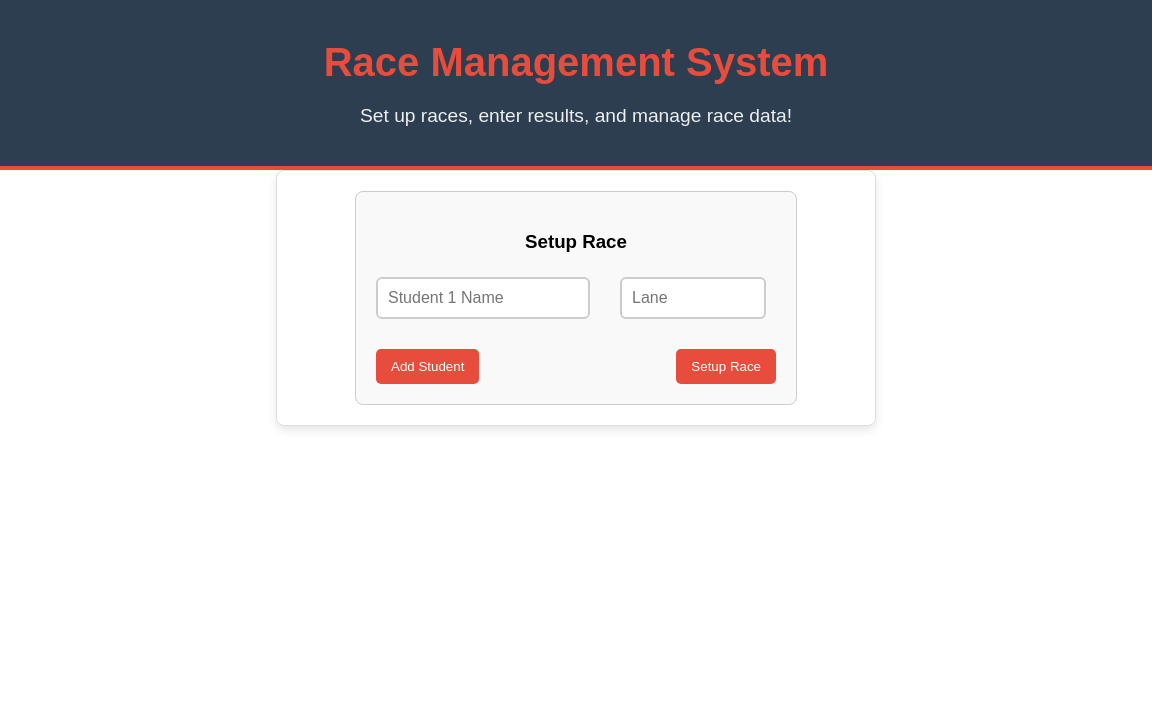
Test case: Race Setup Edge Cases › should prevent duplicate lane numbers
The width and height of the screenshot is (1152, 720).
Click the button with class "add-btn": (428, 367) top-left (376, 349), bottom-right (479, 384)
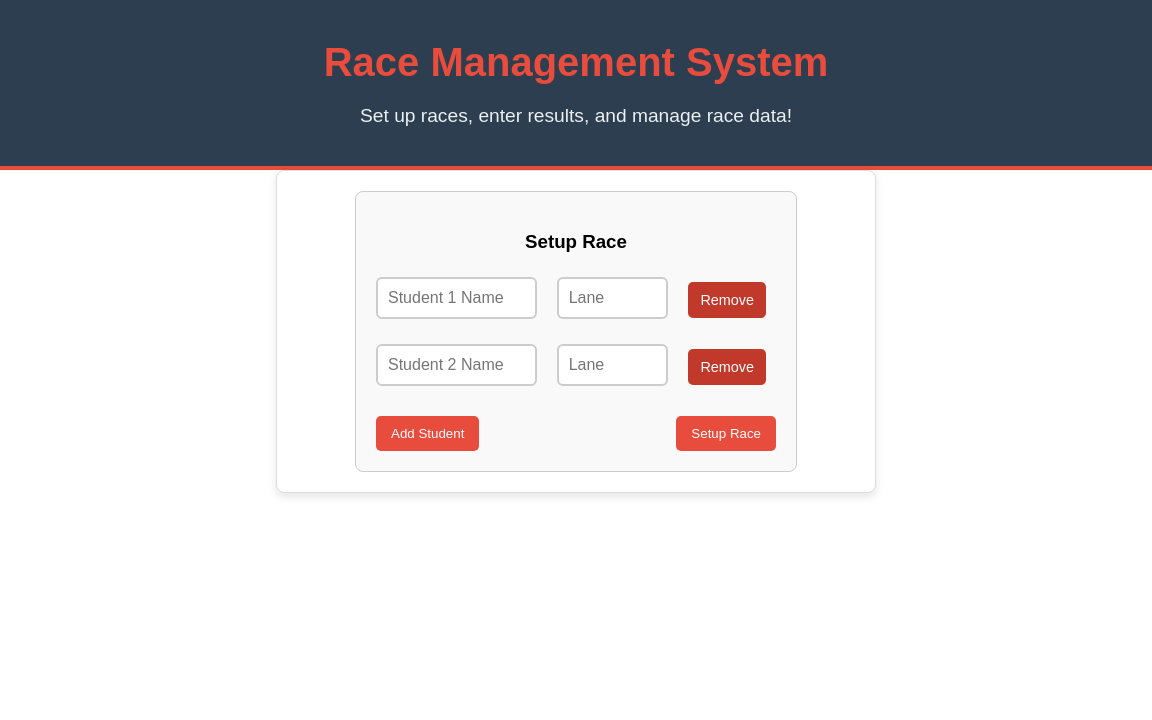
# Fill in names but use the same lane number for both students
In the field with placeholder "Student 1 Name": (457, 298) top-left (376, 277), bottom-right (537, 319), type "John"
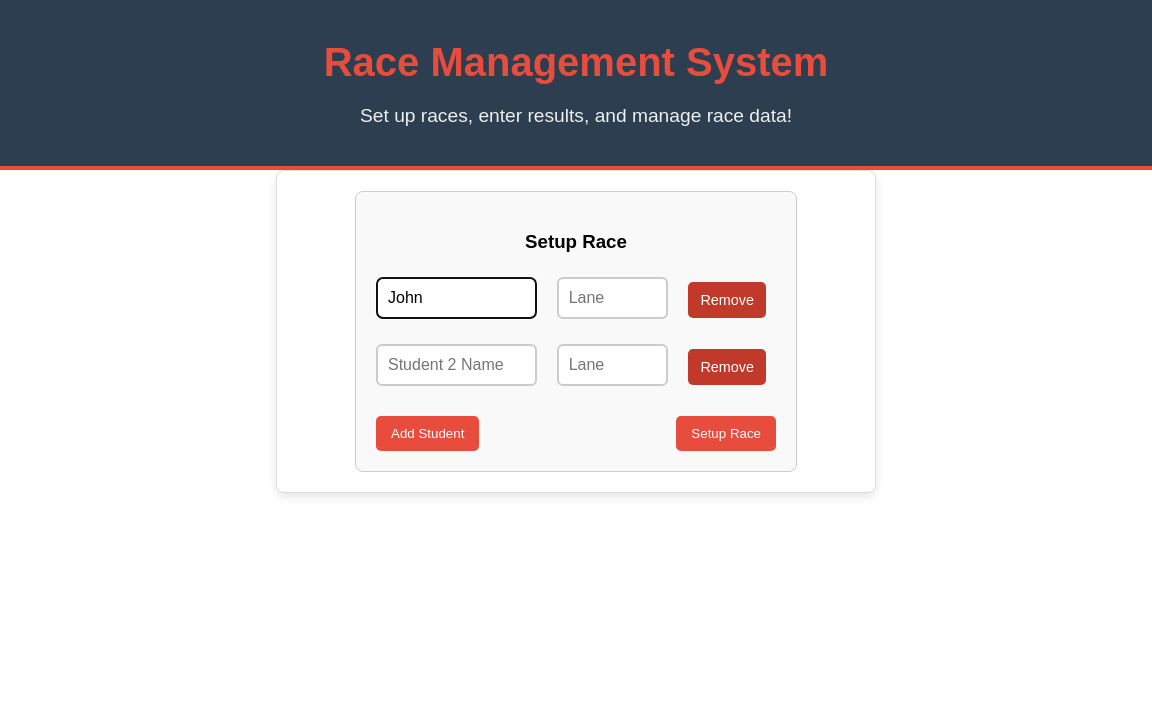
In the 1st number field with placeholder "Lane": (613, 298) top-left (557, 277), bottom-right (669, 319), type "1"
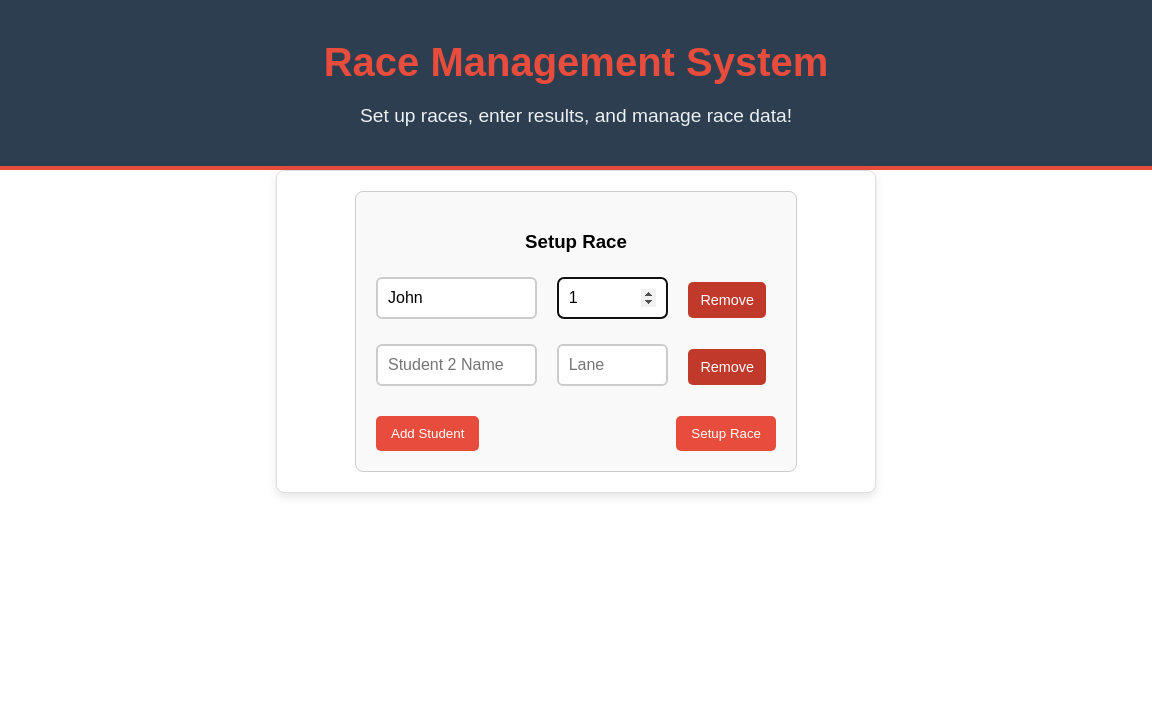
In the field with placeholder "Student 2 Name": (457, 365) top-left (376, 344), bottom-right (537, 386), type "Jane"
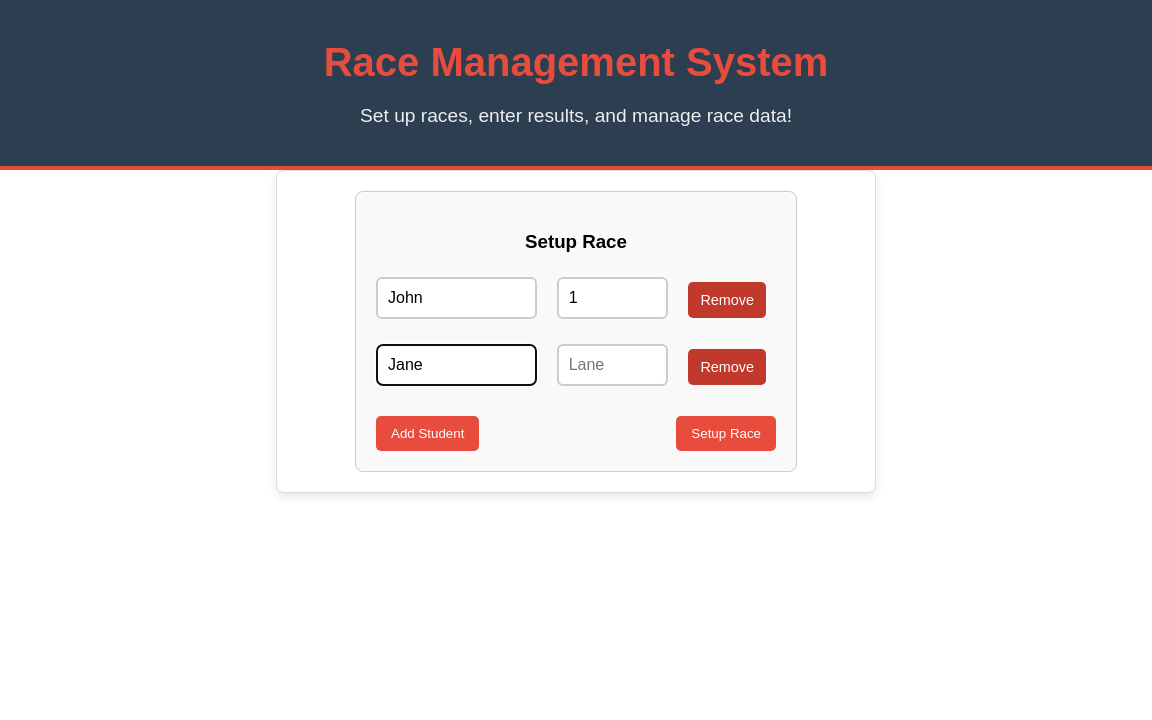
In the number field with placeholder "Lane": (613, 365) top-left (557, 344), bottom-right (669, 386), type "1"
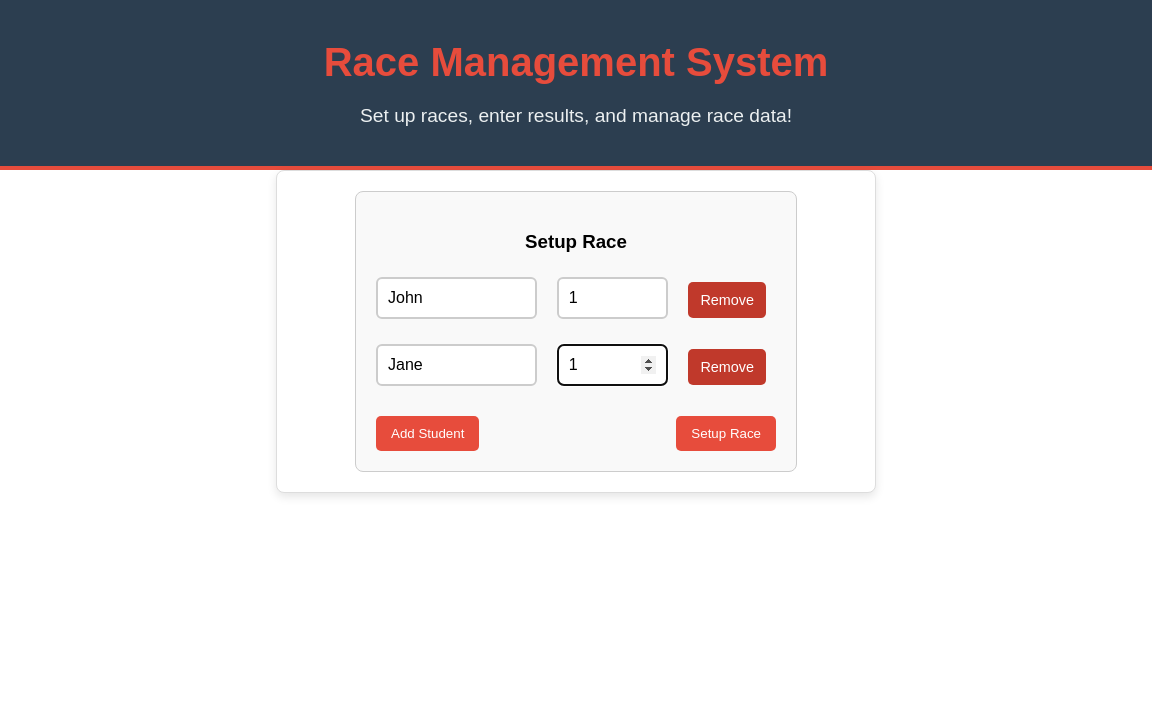
# Attempt to submit
Click the button with class "submit-btn": (726, 434) top-left (676, 416), bottom-right (776, 451)
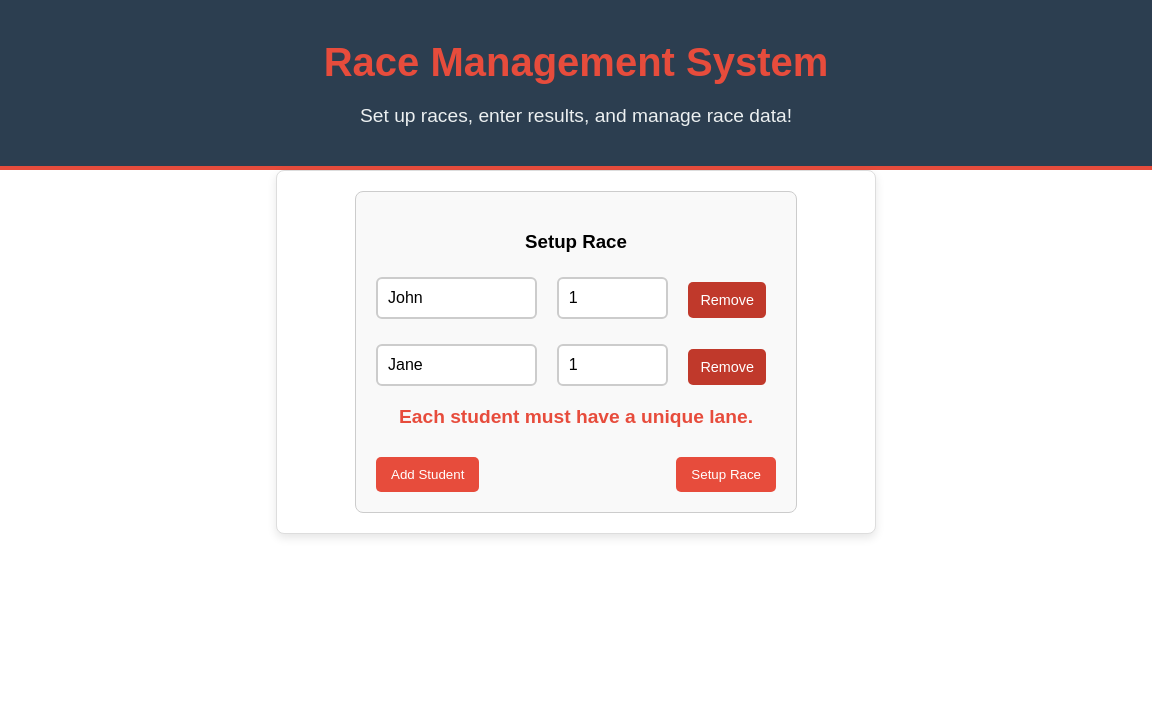
Now the text with class "error-message" reads "Each student must have a unique lane.", box top-left (399, 406), bottom-right (753, 427)
